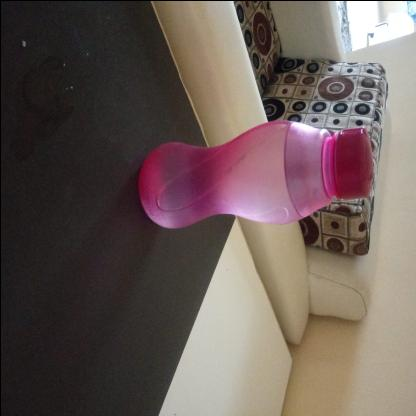bottle: (192, 57, 277, 373)
